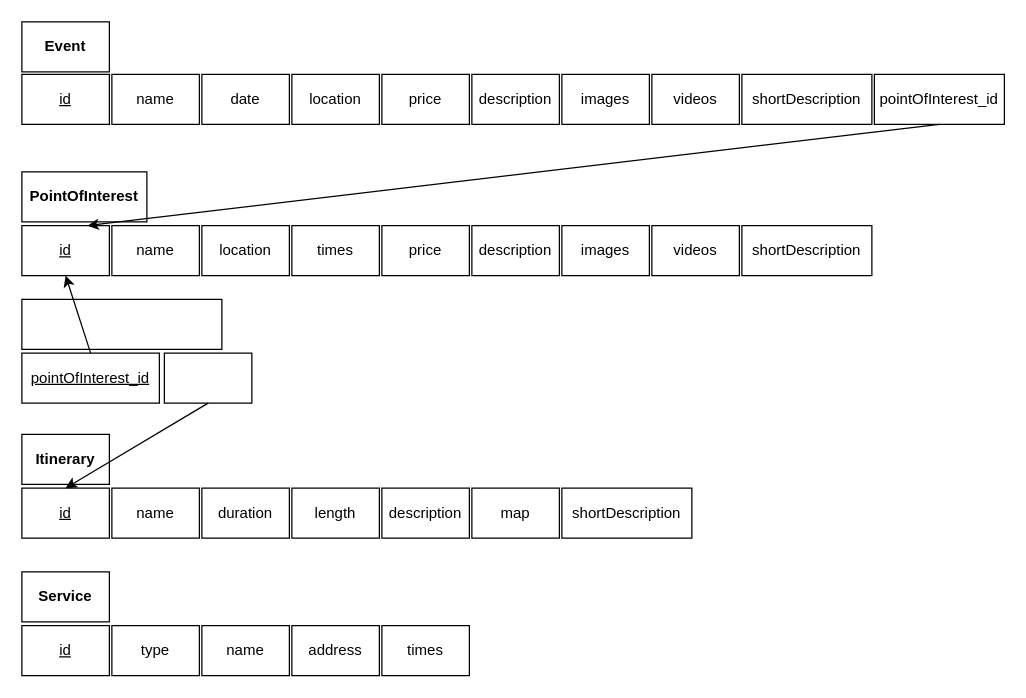
This 1026x698 diagram has some shape labels left out. Each missing label, with the box of its shape:
itinerary_id: (163, 352, 252, 403)
PointOfInterest_Itinerary: (21, 298, 222, 349)
